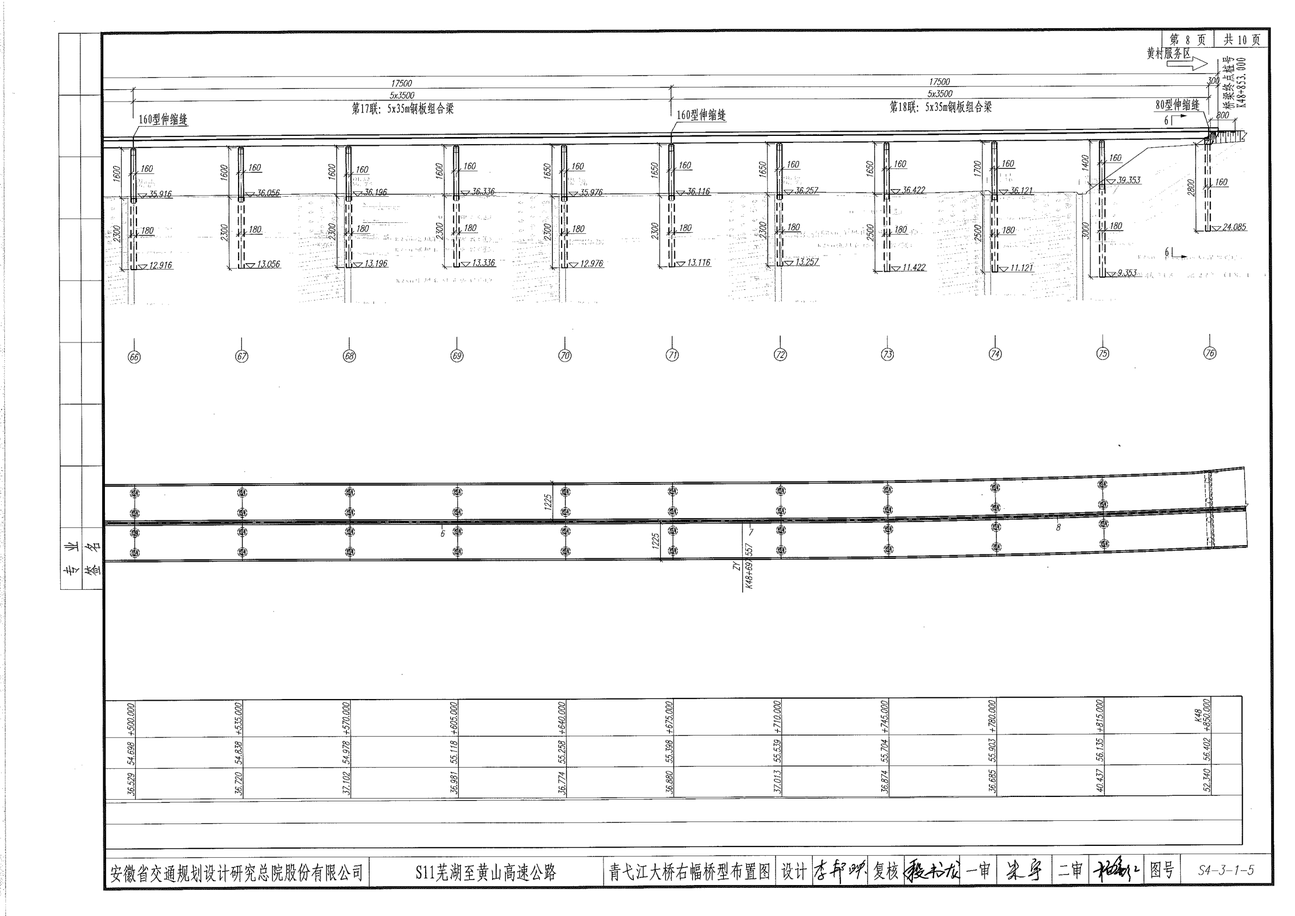A: (82, 50, 1273, 366)
